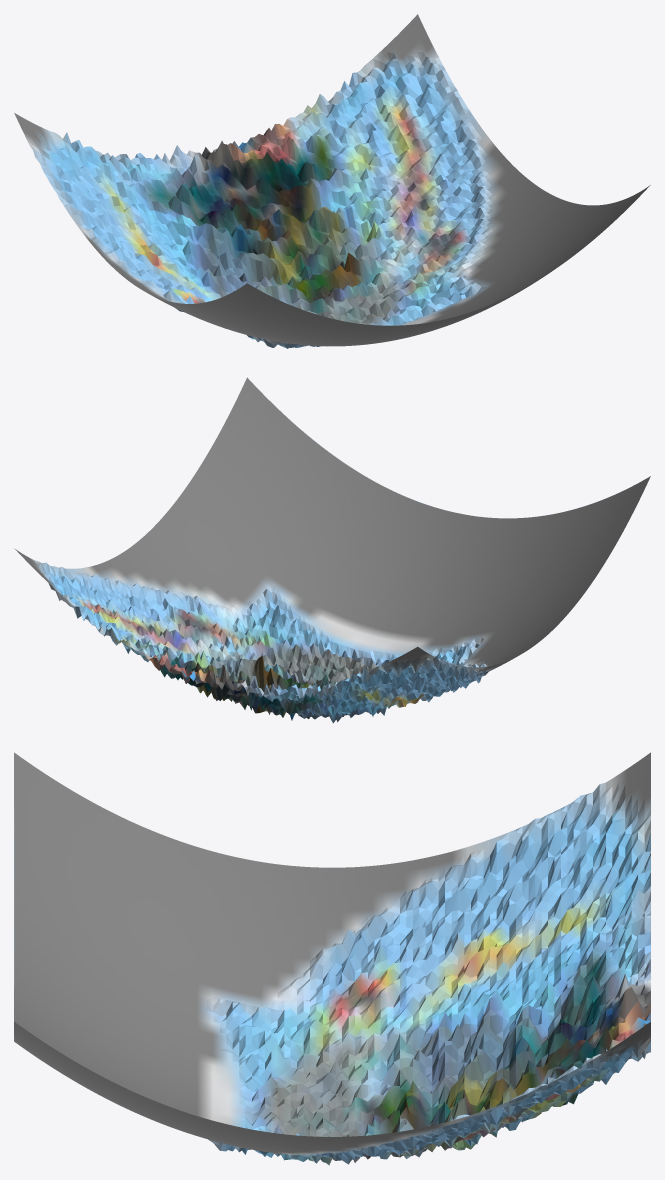
File: saucer.obj
3 renders of one model, top to bottom at view 1: azimuth 30°, elevation 25°; view 2: azimuth 150°, elevation 25°; view 3: azimuth 270°, elevation 25°, orthographic. The views are drawn at different scales.
Parts seen in each view (by area): view 1: saucer; view 2: saucer; view 3: saucer.
Part boxes in pixels (x1,y1,x2,y2): saucer: (14,14,650,348); saucer: (14,377,650,723); saucer: (14,752,650,1165).
Bounding box in the file's own units: 1 × 0.4227 × 1.
Materials: 1 (1 with a texture image).
